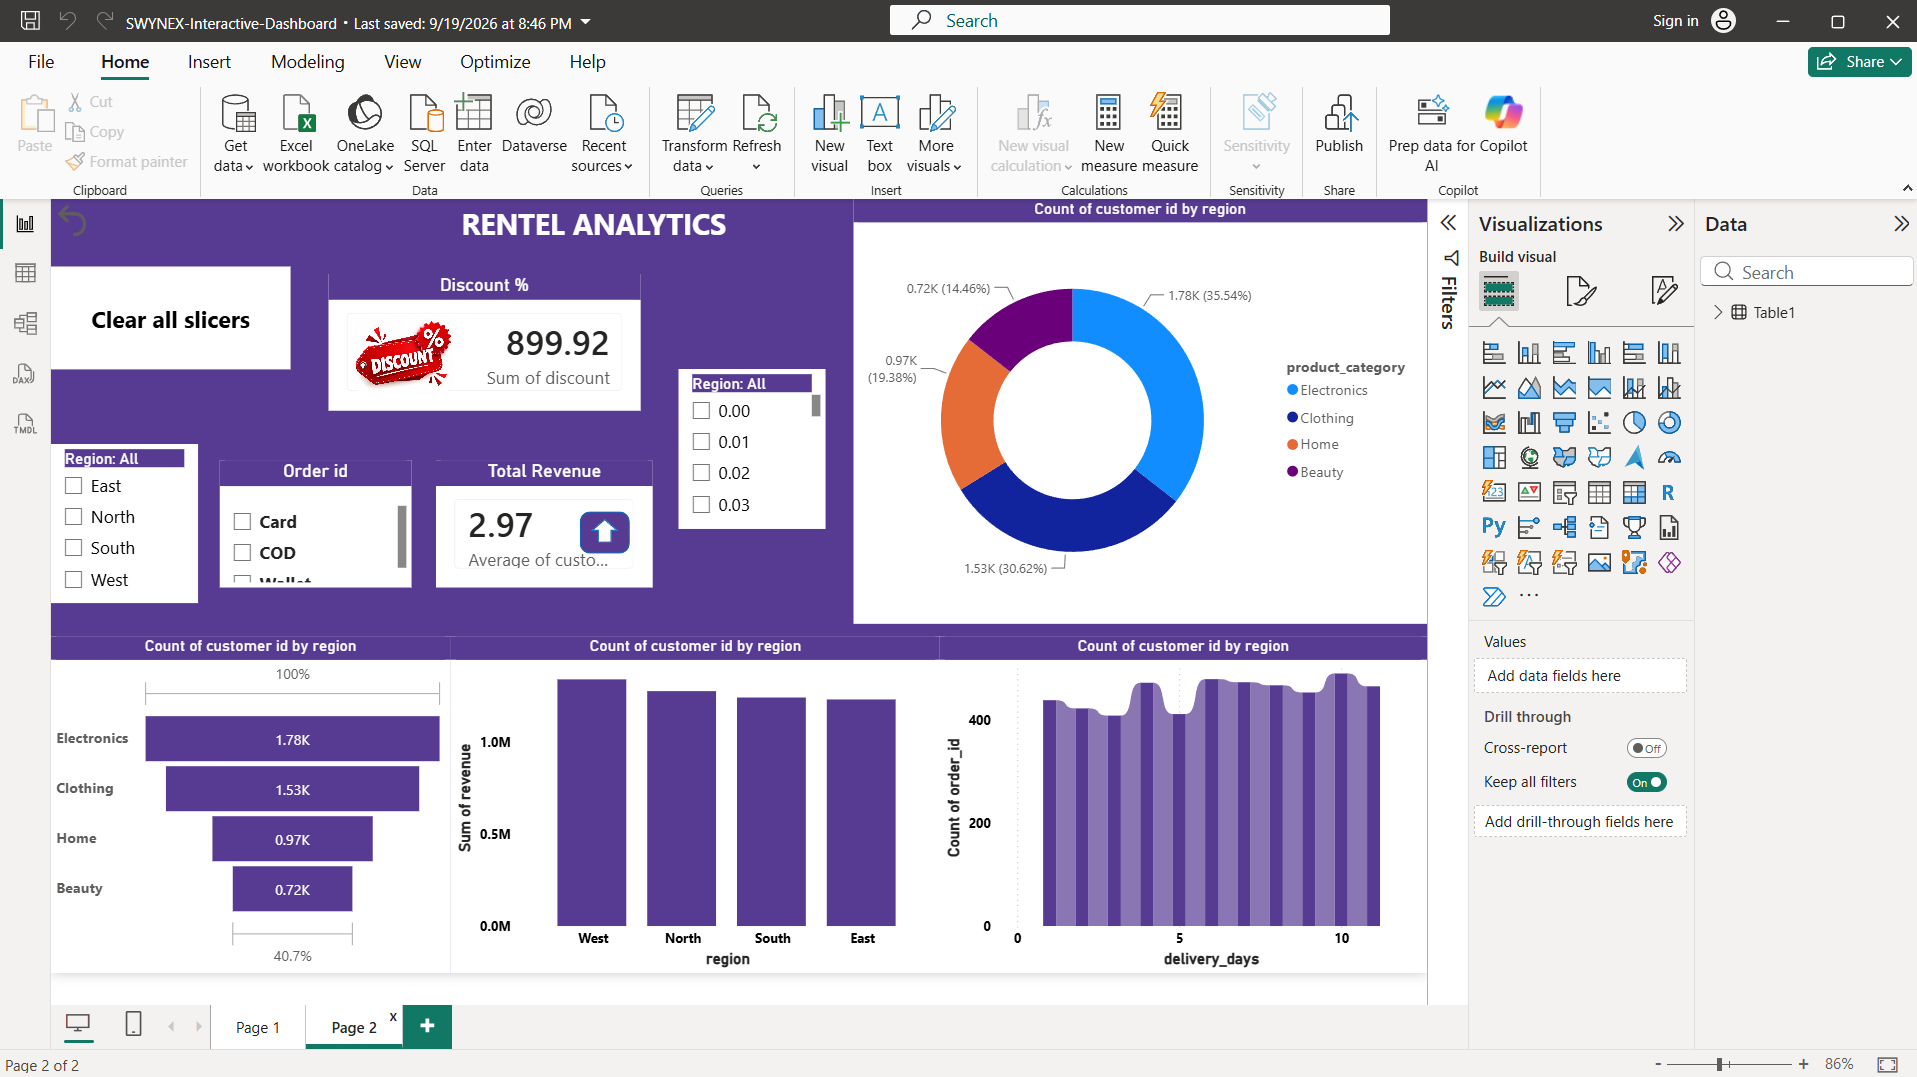

Layout of this report page (visuals, bound fields, positions):
{"tool":"powerbi","page":{"name":"Page 2","canvas":[1280,720],"ordinal":1},"visuals":[{"type":"textbox","box":[335,0,340,51.7],"z":0},{"type":"cardVisual","title":"Discount %","fields":{"Data":["Sum(Table1.discount)"]},"box":[258.3,70,290,127],"z":0,"group":"g1"},{"type":"image","box":[280.3,109,95,72],"z":1000,"group":"g1"},{"type":"slicer","fields":{"Values":["Table1.region"]},"box":[0,228.3,136.7,148.3],"z":1000},{"type":"slicer","title":"Order id","fields":{"Values":["Table1.payment_method"]},"box":[156.7,243.3,178.3,118.3],"z":2000},{"type":"group","id":"g1","title":"Group 7","box":[258.3,70,290,126.7],"z":3000},{"type":"cardVisual","title":"Total Revenue","fields":{"Data":["Avg(Table1.customer_rating)"]},"box":[358.6,242.9,201.8,118.5],"z":3000,"group":"g3"},{"type":"actionButton","box":[0,62.9,222.9,95.7],"z":4000},{"type":"shape","box":[492.2,290.1,46.6,39.1],"z":4000,"group":"g2"},{"type":"shape","box":[502.2,297.4,25.5,22],"z":5000,"group":"g2"},{"type":"funnel","title":"Count of customer id by region","fields":{"Category":["Table1.product_category"],"Y":["CountNonNull(Table1.order_id)"]},"box":[0,406.7,371.7,313.3],"z":5000},{"type":"group","id":"g2","title":"Group 3","box":[492.2,290.1,46.6,39.1],"z":5001,"group":"g3"},{"type":"columnChart","title":"Count of customer id by region","fields":{"Y":["Sum(Table1.revenue)"],"Category":["Table1.region"]},"box":[371.7,406.7,455,313.3],"z":6000},{"type":"donutChart","title":"Count of customer id by region","fields":{"Y":["CountNonNull(Table1.quantity)"],"Category":["Table1.product_category"]},"box":[746.5,0,533.7,395.3],"z":7000},{"type":"ribbonChart","title":"Count of customer id by region","fields":{"Category":["Table1.delivery_days"],"Y":["CountNonNull(Table1.order_id)"]},"box":[826.7,406.7,453.3,313.3],"z":8000},{"type":"group","id":"g3","title":"Group 4","box":[358.6,242.9,201.4,118.6],"z":9000},{"type":"actionButton","box":[0,0,100,39.5],"z":10000},{"type":"slicer","fields":{"Values":["Table1.discount"]},"box":[584.3,158.6,137.1,148.6],"z":10001}]}

Visuals, with their boxes on the page's 1280x720 design canvas (x1, y1, x2, y2). These are canvas units, not pixel positions in the 1917x1077 screenshot, which may show the page scaled, cropped or inside an application window:
textbox: <box>335,0,675,52</box>
"Discount %" cardVisual: <box>258,70,548,197</box>
image: <box>280,109,375,181</box>
slicer - Table1.region: <box>0,228,137,377</box>
"Order id" slicer: <box>157,243,335,362</box>
"Group 7" group: <box>258,70,548,197</box>
"Total Revenue" cardVisual: <box>359,243,560,361</box>
actionButton: <box>0,63,223,159</box>
shape: <box>492,290,539,329</box>
shape: <box>502,297,528,319</box>
"Count of customer id by region" funnel: <box>0,407,372,720</box>
"Group 3" group: <box>492,290,539,329</box>
"Count of customer id by region" columnChart: <box>372,407,827,720</box>
"Count of customer id by region" donutChart: <box>746,0,1280,395</box>
"Count of customer id by region" ribbonChart: <box>827,407,1280,720</box>
"Group 4" group: <box>359,243,560,362</box>
actionButton: <box>0,0,100,40</box>
slicer - Table1.discount: <box>584,159,721,307</box>
